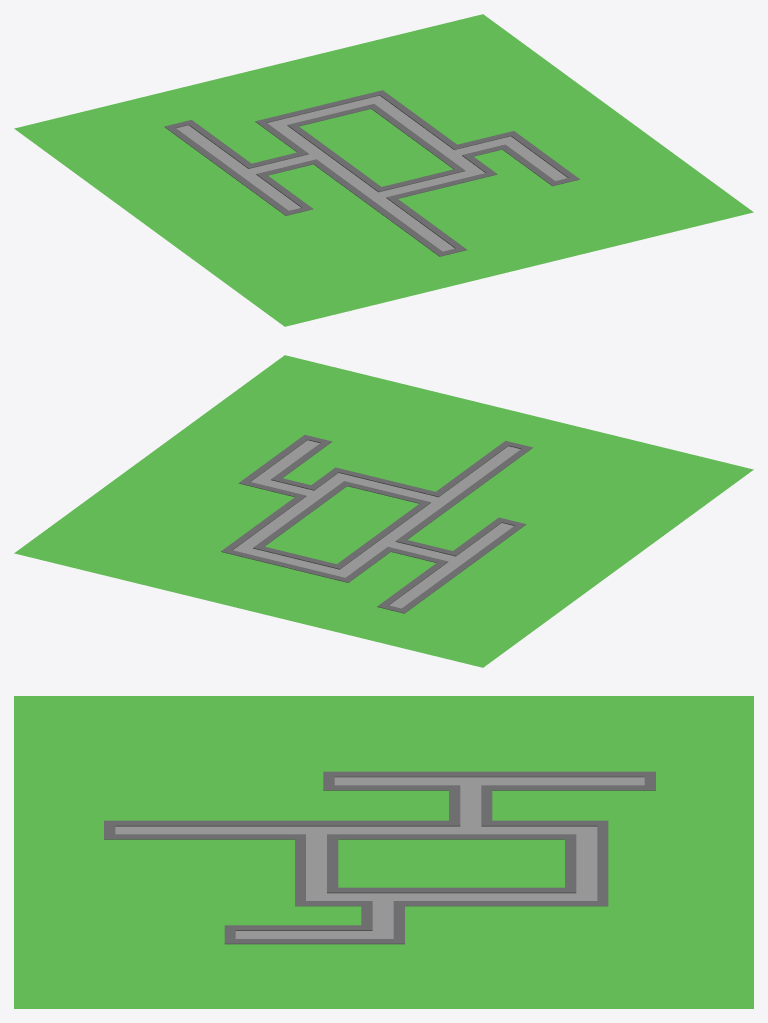
Rendered from TPCS_MAP_V1.fbx.
3 views of the same model, one above another, from view 1: azimuth 30°, elevation 25°; view 2: azimuth 150°, elevation 25°; view 3: azimuth 270°, elevation 25° (orthographic). The views are drawn at different scales.
Parts seen in each view (by area): view 1: land; view 2: land; view 3: land.
Part boxes in pixels (x1=…): land: x1=14, y1=14, x2=753, y2=326; land: x1=14, y1=355, x2=753, y2=667; land: x1=14, y1=696, x2=753, y2=1008.
Size of the model in its own units: 19449 by 74.63 by 19449.
